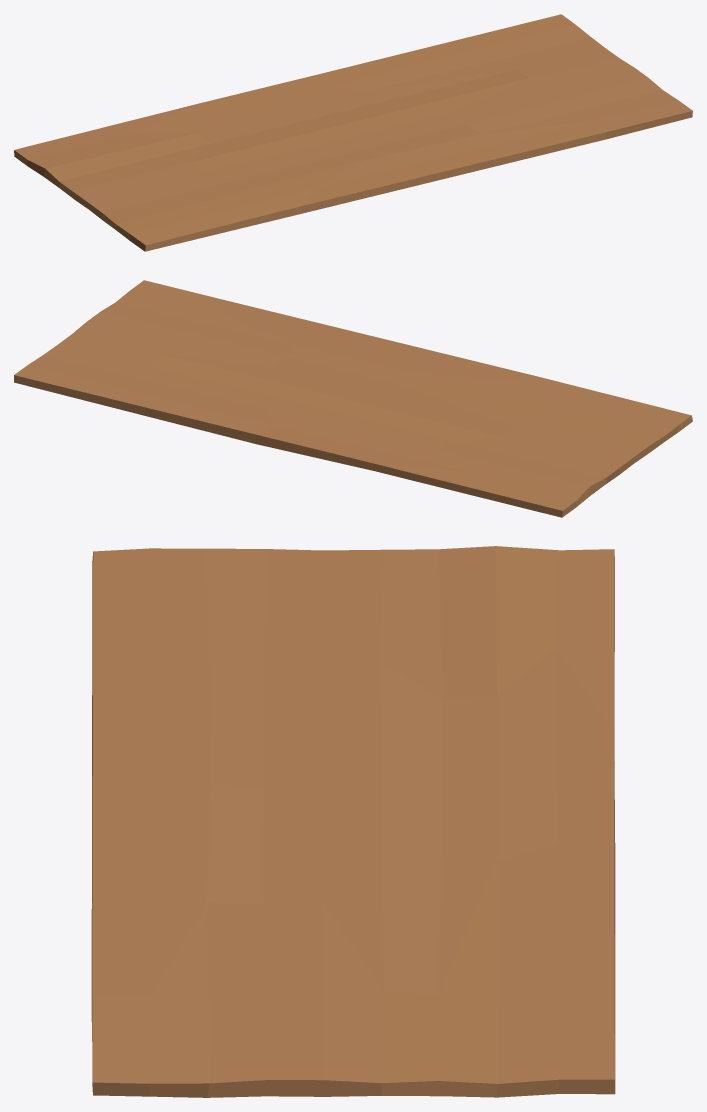
File: floor1LowPoly.fbx
The picture shows the model from 3 angles, top to bottom: view 1: azimuth 30°, elevation 25°; view 2: azimuth 150°, elevation 25°; view 3: azimuth 270°, elevation 25°; orthographic projection. The views are drawn at different scales.
Visible parts, largest first — view 1: floor1LowPoly; view 2: floor1LowPoly; view 3: floor1LowPoly.
Part boxes in pixels (x1=…): floor1LowPoly: x1=14, y1=14, x2=692, y2=251; floor1LowPoly: x1=14, y1=280, x2=692, y2=517; floor1LowPoly: x1=91, y1=546, x2=615, y2=1097.
Size of the model in its own units: 618 by 12.21 by 255.
